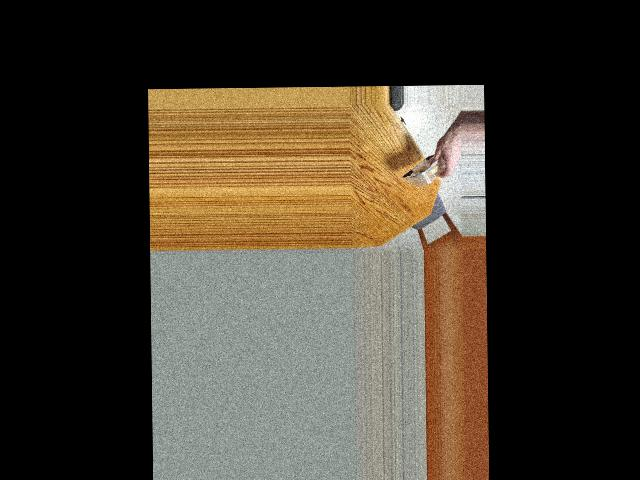cheese: (406, 139, 450, 191)
